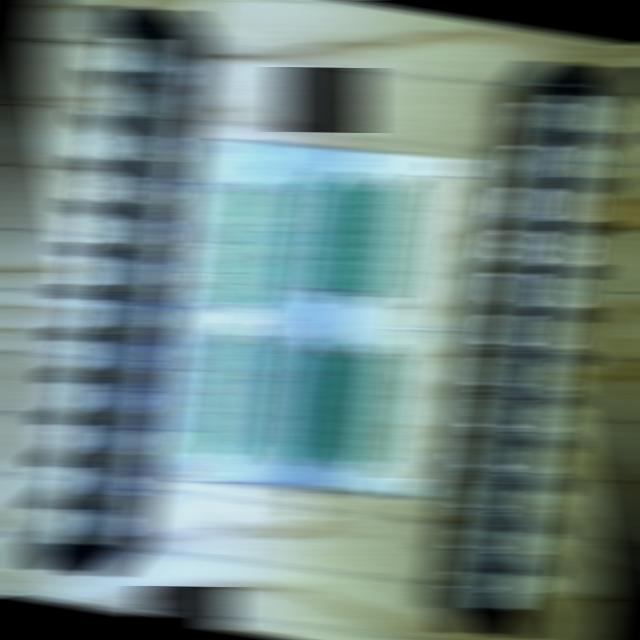Flathead_Block: (27, 1, 188, 579)
Phillips_Block: (447, 56, 629, 640)
Terminal_1: (198, 337, 257, 460), (216, 188, 275, 309)
Terminal_2: (326, 178, 383, 296), (338, 352, 395, 469), (292, 176, 349, 293), (303, 350, 359, 466), (269, 348, 325, 463)
